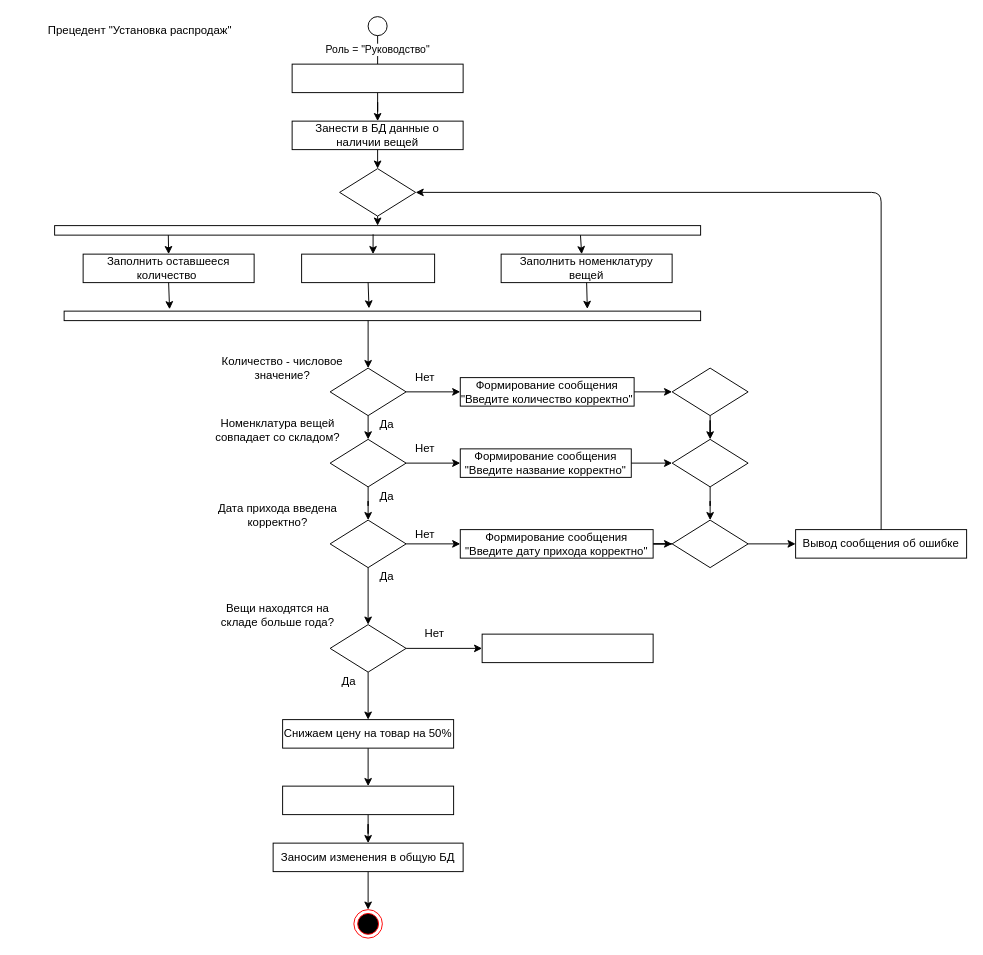
Some shapes in this 983 by 955 pixel diagram are drawn without their labels. The shapes that lost their labels are listed below. From the top down, each one's box as (x1, y1, x2, y2) in pixels, then its label:
(291, 63, 463, 93): Проверить наличие вещей на складе
(301, 253, 435, 283): Заполнить дату прихода на склад
(481, 633, 653, 663): Цена на товар не изменяется
(282, 785, 454, 815): Делаем перерасчёт плана продаж
